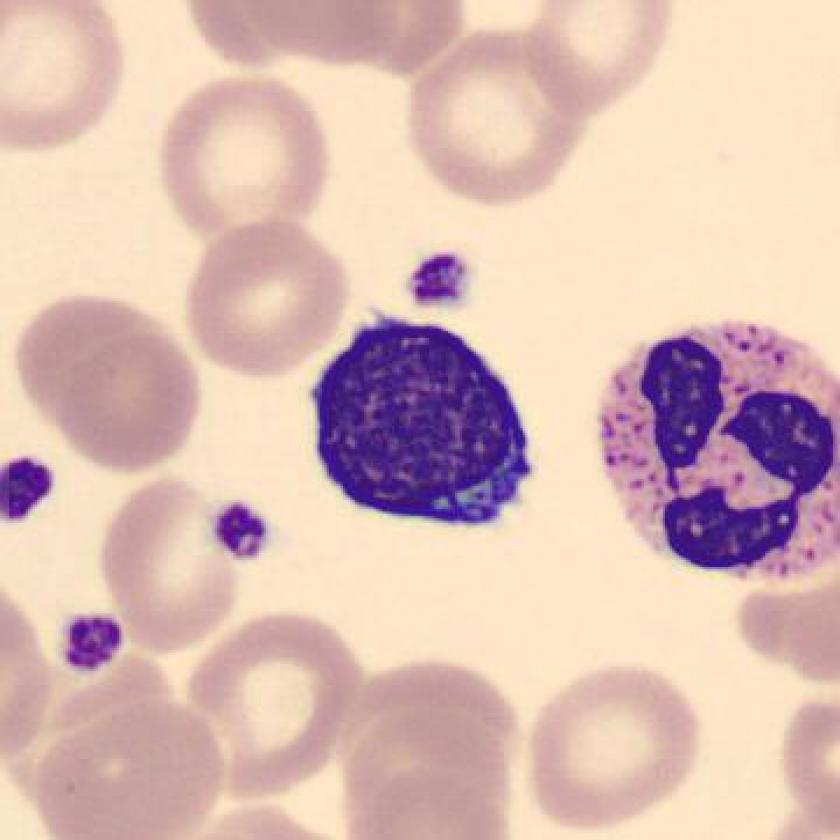lymphocyte: (281, 300, 549, 547)
